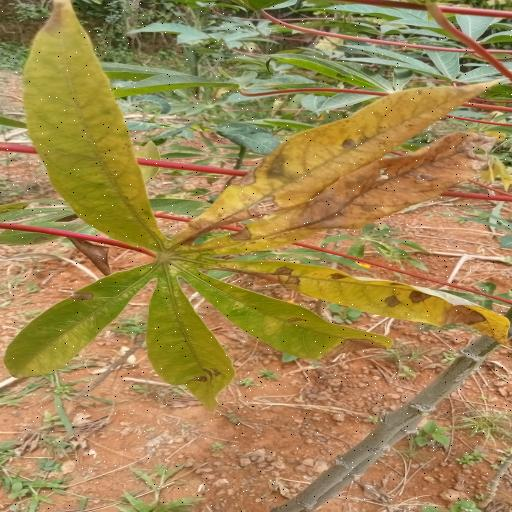Cassava_Brown_Leaf_Spot: (11, 2, 512, 403)
